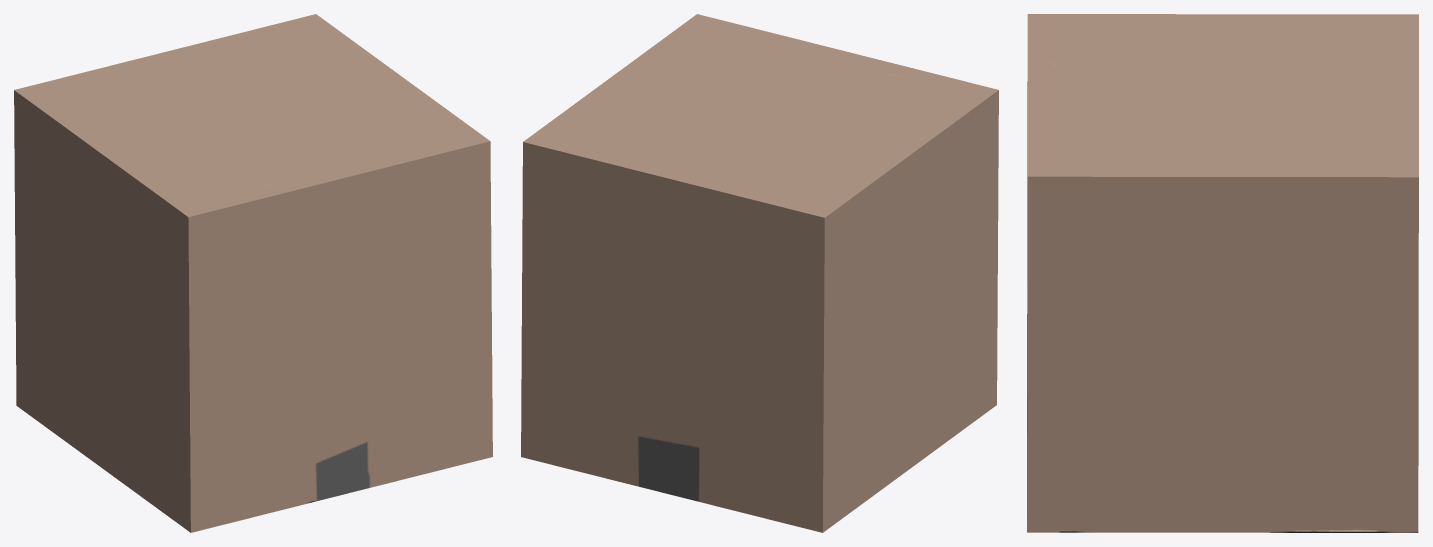
The model's file is cajadecomida.fbx.
3 views of the same model, side by side, from view 1: azimuth 30°, elevation 25°; view 2: azimuth 150°, elevation 25°; view 3: azimuth 270°, elevation 25° (orthographic). The views are drawn at different scales.
Parts seen in each view (by area): view 1: Cube; view 2: Cube; view 3: Cube.
Part boxes in pixels (<box>): Cube: <box>14,14,492,532</box>; Cube: <box>521,14,998,532</box>; Cube: <box>1027,14,1418,532</box>.
Size of the model in its own units: 201 by 202 by 200.
